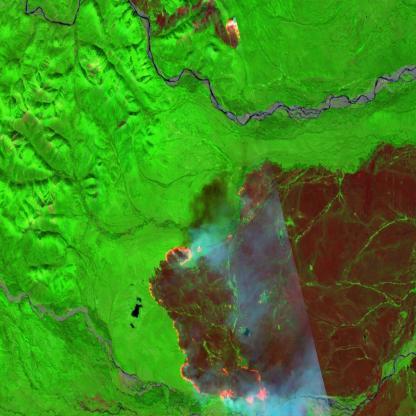fire: (148, 280, 269, 416), (161, 232, 234, 267), (218, 13, 246, 54)
